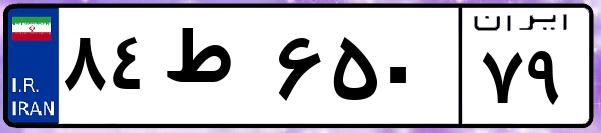0: (385, 28, 445, 110)
4: (110, 28, 158, 98)
5: (330, 28, 385, 110)
6: (270, 28, 330, 110)
7: (475, 38, 525, 113)
8: (57, 26, 110, 100)
9: (525, 38, 570, 115)
ط: (158, 20, 270, 120)
